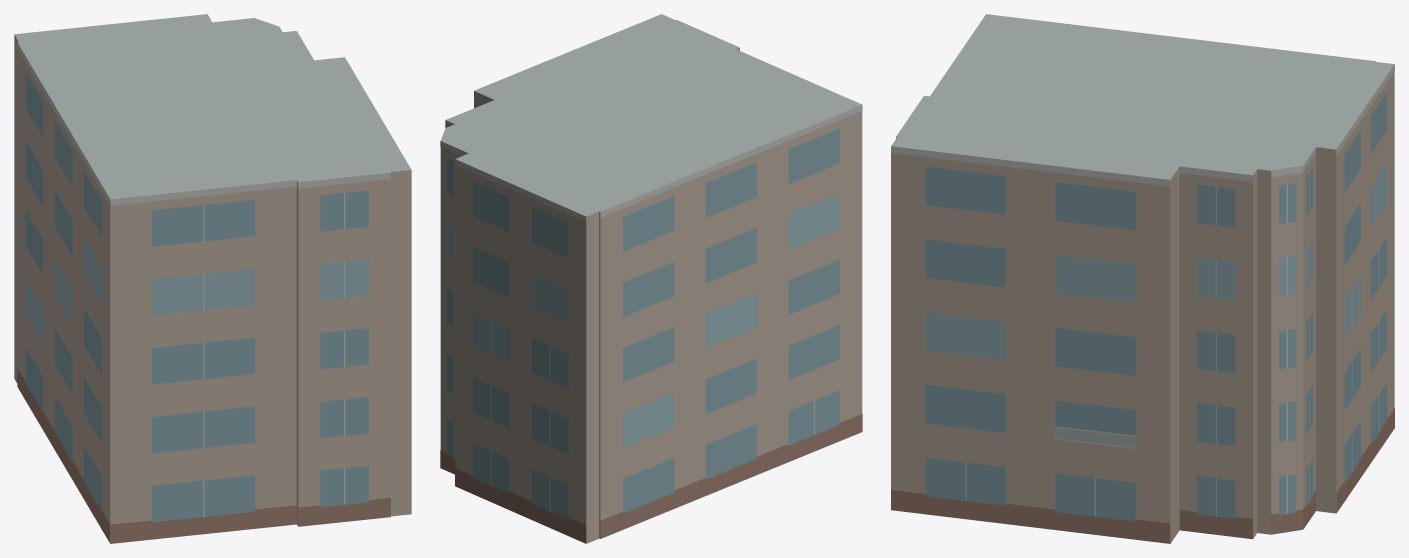
File: survey-upis-32870046.glb
3 renders of one model, left to right at view 1: azimuth 30°, elevation 25°; view 2: azimuth 150°, elevation 25°; view 3: azimuth 270°, elevation 25°, orthographic. The views are drawn at different scales.
Visible parts, largest first — view 1: survey-upis-32870046.tmp; view 2: survey-upis-32870046.tmp; view 3: survey-upis-32870046.tmp.
Boxes of the visible parts, x1,y1,x2,y2 form: survey-upis-32870046.tmp: [14, 14, 411, 543]; survey-upis-32870046.tmp: [440, 14, 862, 543]; survey-upis-32870046.tmp: [891, 14, 1394, 543].
Bounding box in the file's own units: 12.92 × 13.2 × 16.56.
